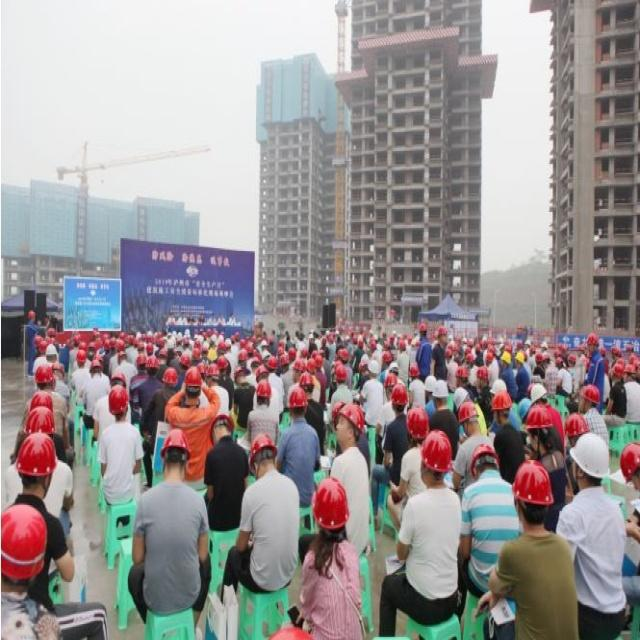helmet: (16, 575, 60, 640), (569, 577, 613, 640), (522, 534, 558, 610), (159, 569, 195, 640), (419, 572, 456, 640), (247, 577, 282, 640), (468, 584, 503, 640), (206, 542, 238, 602), (337, 535, 367, 596), (20, 540, 58, 588), (563, 548, 591, 600), (25, 516, 57, 559), (511, 611, 557, 640), (287, 512, 312, 563), (407, 544, 432, 595), (108, 515, 132, 565), (619, 583, 640, 640), (491, 518, 514, 570), (458, 532, 482, 580), (31, 484, 59, 523), (389, 509, 411, 554), (183, 488, 203, 536), (579, 512, 601, 551), (527, 507, 551, 541), (108, 489, 129, 527), (254, 505, 274, 543), (330, 534, 347, 578), (161, 489, 180, 527), (432, 505, 450, 543), (490, 501, 509, 535), (516, 527, 535, 561), (453, 488, 471, 521), (289, 480, 306, 513), (476, 484, 492, 517), (254, 485, 271, 515), (52, 479, 69, 509), (145, 473, 161, 504), (206, 483, 221, 516), (586, 441, 601, 472), (299, 492, 315, 521), (234, 485, 249, 515), (74, 463, 89, 492), (622, 484, 637, 513), (134, 469, 148, 500), (366, 479, 382, 505), (90, 476, 104, 505), (500, 465, 513, 496), (407, 479, 421, 505), (418, 428, 431, 455), (306, 476, 319, 503), (266, 475, 279, 501), (218, 475, 231, 501), (335, 488, 348, 513), (436, 435, 449, 460), (382, 467, 395, 492), (278, 471, 291, 496), (310, 633, 355, 640), (514, 467, 526, 492), (45, 459, 57, 484), (388, 479, 401, 501), (118, 467, 131, 489), (611, 485, 623, 508), (357, 480, 369, 501), (237, 464, 249, 485), (566, 471, 578, 492), (34, 445, 45, 467), (554, 472, 565, 493), (484, 467, 495, 488), (341, 464, 351, 487), (368, 450, 379, 470), (191, 466, 202, 486), (207, 462, 218, 482), (27, 411, 37, 433), (542, 468, 553, 488), (444, 460, 454, 481), (534, 468, 544, 488), (398, 453, 408, 471), (466, 471, 476, 488), (145, 456, 155, 473), (73, 446, 82, 462), (610, 463, 618, 480), (540, 452, 548, 469), (523, 447, 532, 462), (137, 454, 145, 470), (388, 442, 395, 458), (357, 451, 365, 464)
